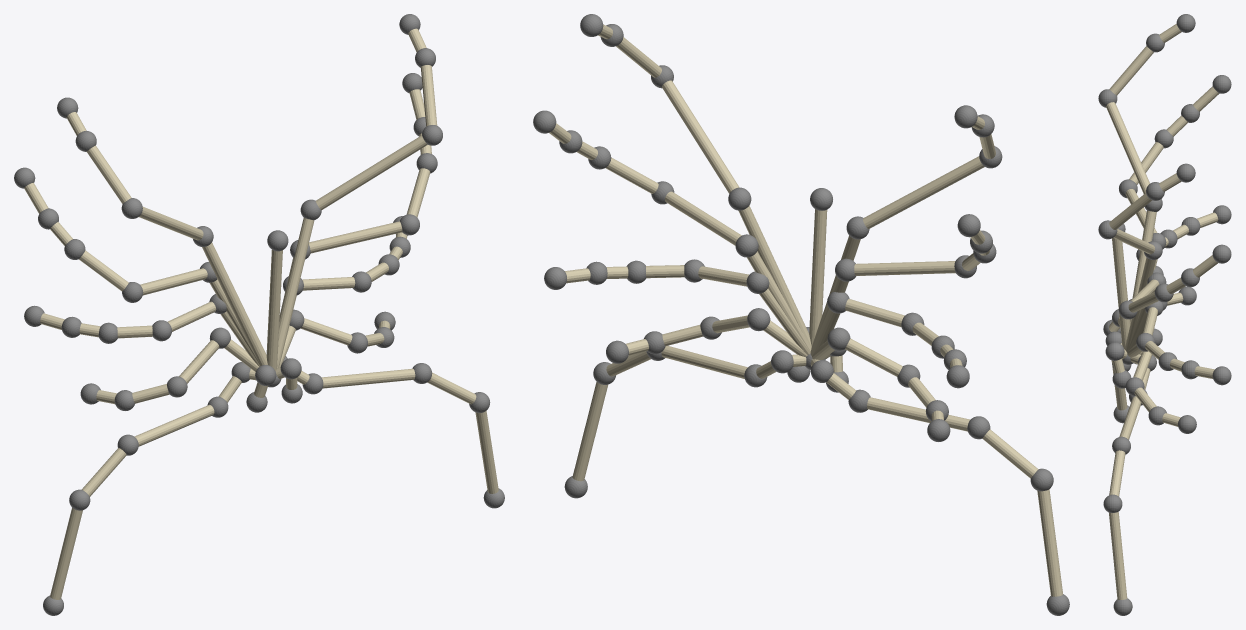
3 renders of one model, left to right at view 1: azimuth 30°, elevation 25°; view 2: azimuth 150°, elevation 25°; view 3: azimuth 270°, elevation 25°, orthographic. The views are drawn at different scales.
Visible parts, largest first — view 1: world; view 2: world; view 3: world.
Part boxes in pixels (left/top/right/bottom): world: left=14, top=14, right=504, bottom=615; world: left=533, top=14, right=1069, bottom=615; world: left=1098, top=14, right=1231, bottom=615.
Size of the model in its own units: 0.7505 by 0.7478 by 0.2103.
